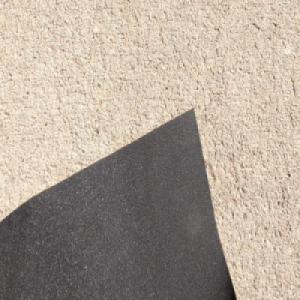PaintChip: (1, 103, 237, 300)
